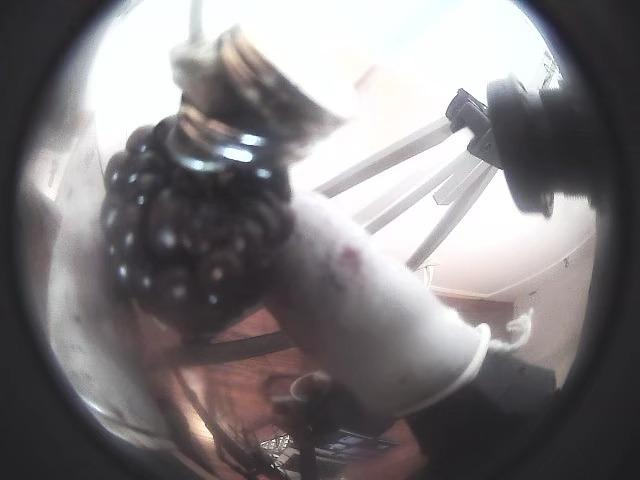berry: (103, 120, 293, 333)
gripper: (271, 191, 489, 416), (47, 203, 170, 447)
lense: (0, 0, 141, 479), (501, 0, 639, 479)
